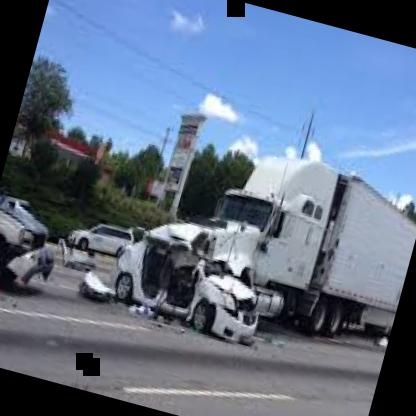accident: (70, 184, 315, 380), (0, 179, 87, 320)
